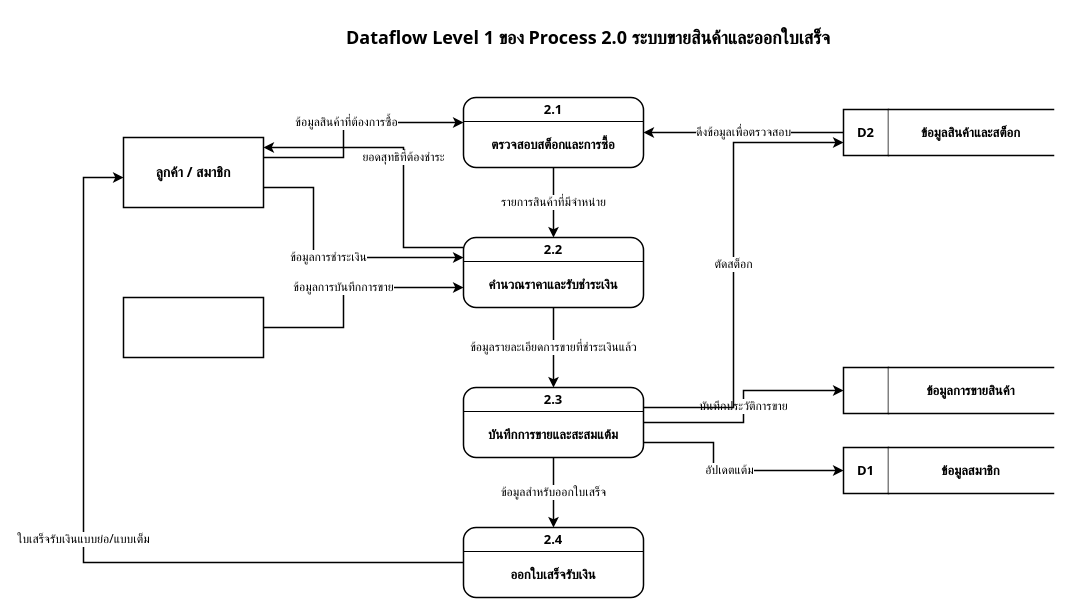
Some shapes in this 1071 by 615 pixel diagram are drawn without their labels. Each missing label, with the centre of its shape:
"D3" belongs at point 865,390.
"พนักงาน" belongs at point 193,327.
